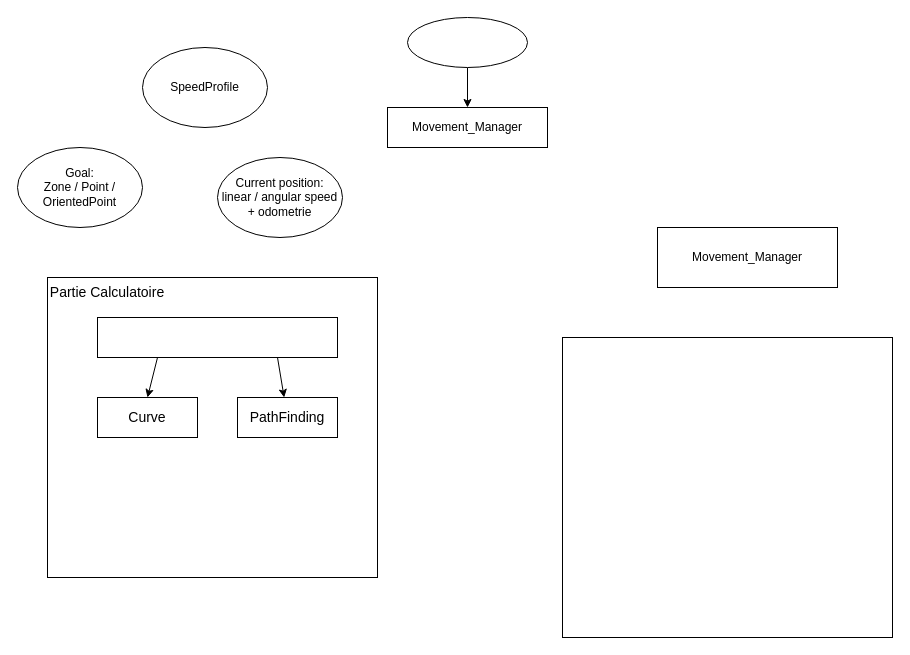
Some shapes in this 910 by 655 pixel diagram are drawn without their labels. Each missing label, with the centre of its shape:
GoToParams: (467,42)
Partie Effective: (727,487)
Trajectory_Computer: (217,337)
